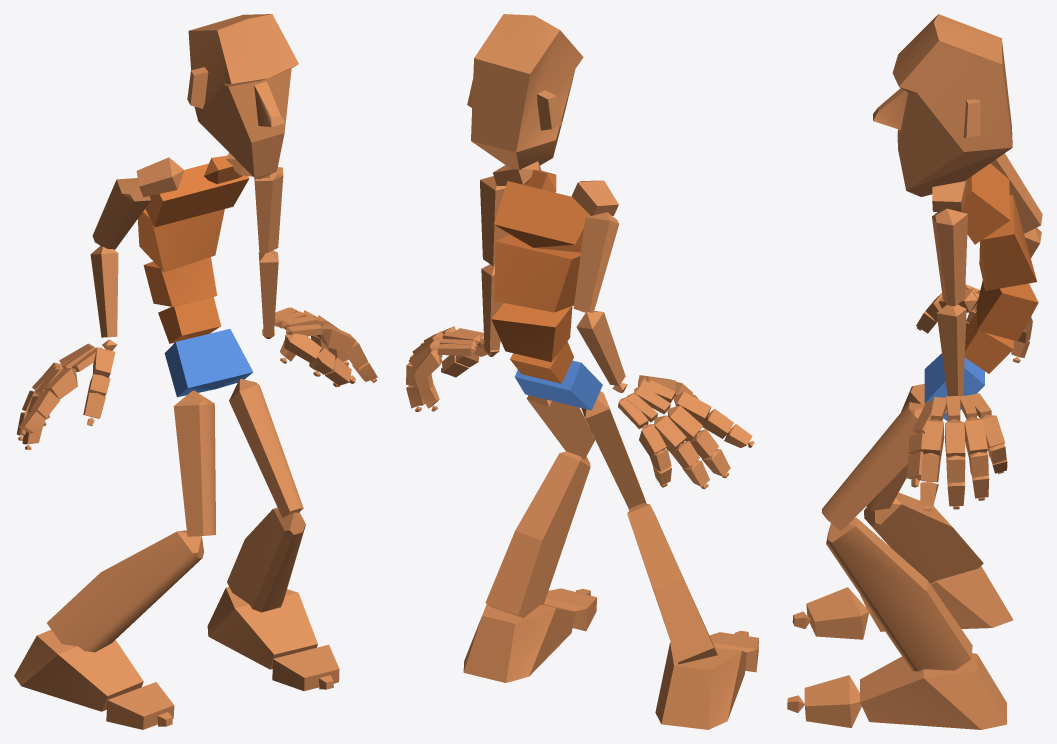
Rendered from personaje34.obj.
3 renders of one model, left to right at view 1: azimuth 30°, elevation 25°; view 2: azimuth 150°, elevation 25°; view 3: azimuth 270°, elevation 25°, orthographic. The views are drawn at different scales.
Visible parts, largest first — view 1: BOPED_Head, BOPED_R_leg, BOPED_R_foot, BOPED_R_foot01, BOPED_L_leg, BOPED_R_legup, BOPED_L_legup, Bone01, Bone04, Bone05, Bone03, BOPED_R_arm_upper (+11 smaller); view 2: BOPED_Head, BOPED_L_leg, BOPED_R_foot01, BOPED_R_foot, BOPED_R_leg, Bone04, Bone05, Bone03, BOPED_R_arm_upper, BOPED_R_legup, Bone01, BOPED_L_legup (+13 smaller); view 3: BOPED_Head, BOPED_L_leg, BOPED_R_foot01, BOPED_R_leg, BOPED_L_legup, BOPED_R_foot, Bone04, Bone05, BOPED_L_arm_upper, Bone03, BOPED_R_foot_toe01, BOPED_R_foot_toe04 (+13 smaller).
Part boxes in pixels (<box>): BOPED_Head: <box>187,14,298,178</box>; BOPED_R_leg: <box>47,530,203,652</box>; BOPED_R_foot: <box>14,630,143,711</box>; BOPED_R_foot01: <box>207,587,317,669</box>; BOPED_L_leg: <box>227,507,305,612</box>; BOPED_R_legup: <box>173,390,216,536</box>; BOPED_L_legup: <box>229,379,303,517</box>; Bone01: <box>164,329,252,397</box>; Bone04: <box>137,209,224,272</box>; Bone05: <box>145,163,249,227</box>; Bone03: <box>143,257,217,306</box>; BOPED_R_arm_upper: <box>92,178,150,249</box>; BOPED_Head: <box>467,14,583,170</box>; BOPED_L_leg: <box>485,451,590,618</box>; BOPED_R_foot01: <box>463,604,575,682</box>; BOPED_R_foot: <box>655,642,746,729</box>; BOPED_R_leg: <box>627,503,717,664</box>; Bone04: <box>494,235,580,312</box>; Bone05: <box>493,181,590,252</box>; Bone03: <box>491,303,572,362</box>; BOPED_R_arm_upper: <box>573,212,619,312</box>; BOPED_R_legup: <box>581,391,646,509</box>; Bone01: <box>515,360,602,410</box>; BOPED_L_legup: <box>526,395,594,459</box>; BOPED_Head: <box>873,14,1012,196</box>; BOPED_L_leg: <box>826,517,972,671</box>; BOPED_R_foot01: <box>860,653,1006,729</box>; BOPED_R_leg: <box>864,492,983,583</box>; BOPED_L_legup: <box>821,402,924,530</box>; BOPED_R_foot: <box>860,566,1013,631</box>; Bone04: <box>979,195,1036,290</box>; Bone05: <box>962,163,1010,244</box>; BOPED_L_arm_upper: <box>932,208,967,306</box>; Bone03: <box>976,280,1038,341</box>; BOPED_R_foot_toe01: <box>806,587,869,639</box>; BOPED_R_foot_toe04: <box>804,675,861,727</box>.
Bounding box in the file's own units: 97.79 × 170 × 57.39.
